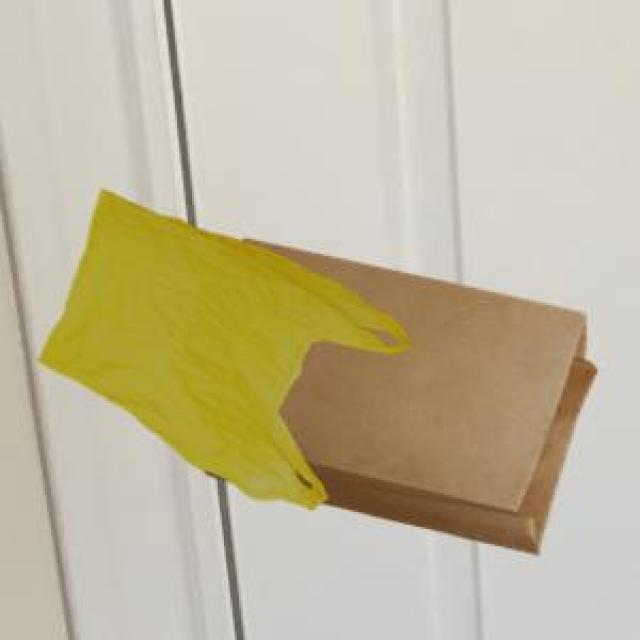paper: (240, 235, 593, 550)
